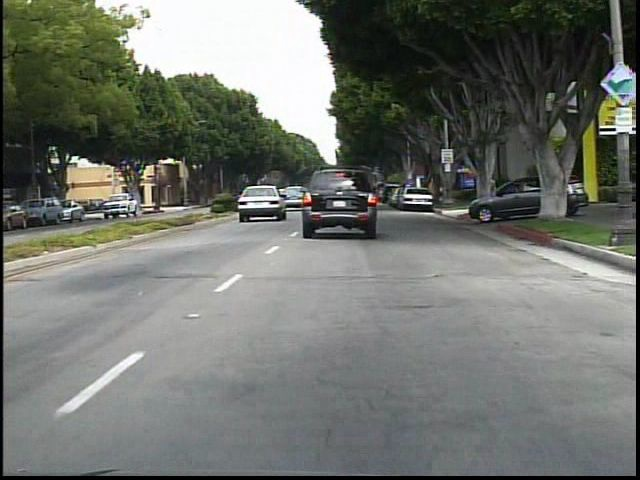person: (481, 170, 499, 209)
